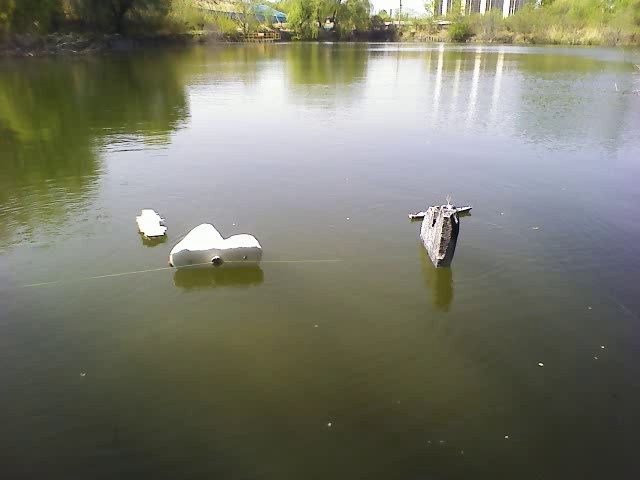aircraft_carrier: (133, 202, 168, 241)
iceberg: (168, 221, 264, 267)
rock: (415, 198, 463, 268)
